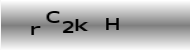2: (60, 21, 73, 34)
C: (45, 10, 61, 23)
H: (104, 17, 119, 30)
k: (75, 19, 87, 32)
r: (29, 25, 41, 35)
